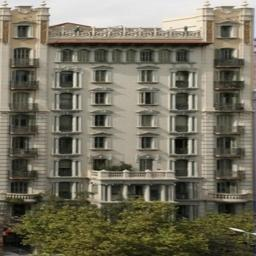building: (0, 0, 256, 214)
